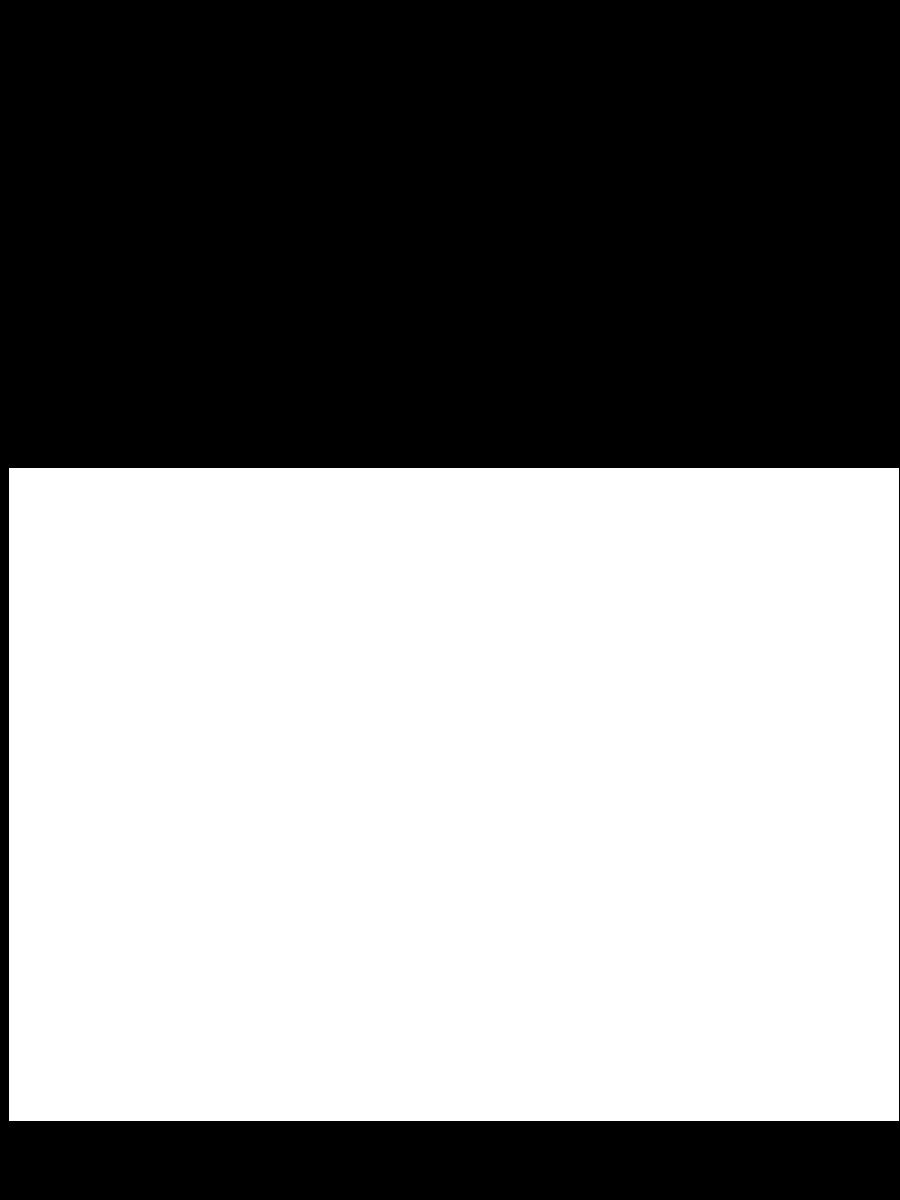table: (9, 468, 899, 1121)
